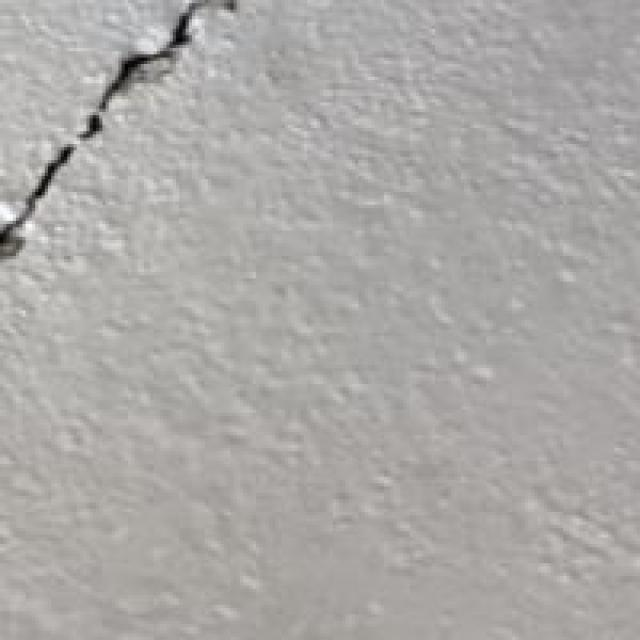Crack: (6, 0, 220, 282)
